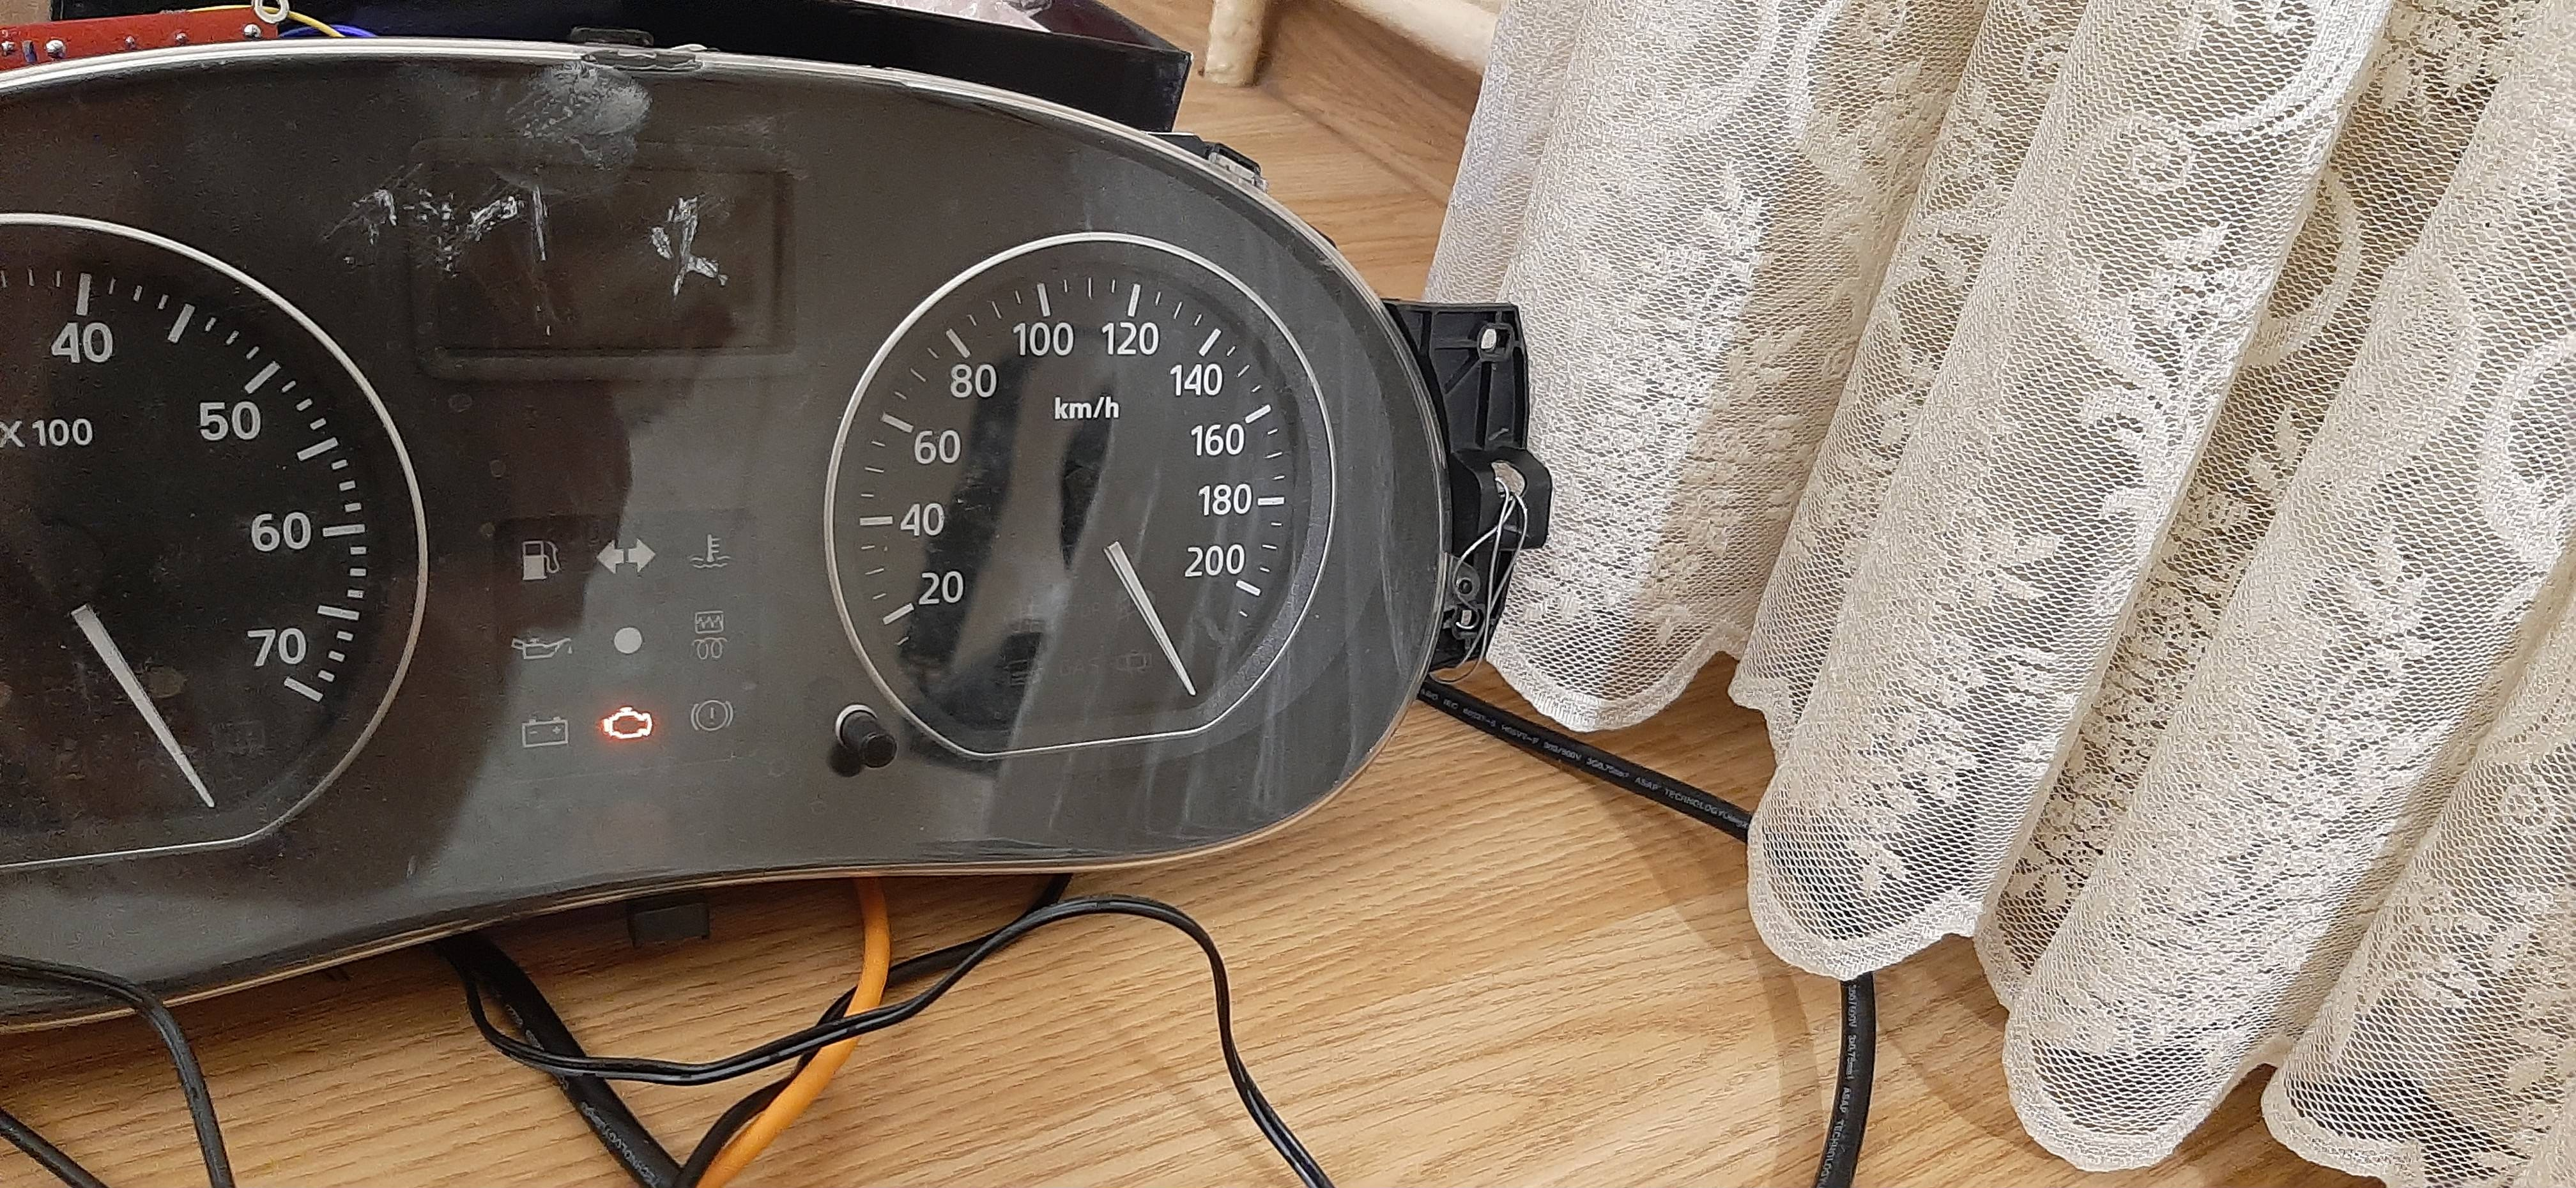engine21: (601, 705, 654, 739)
